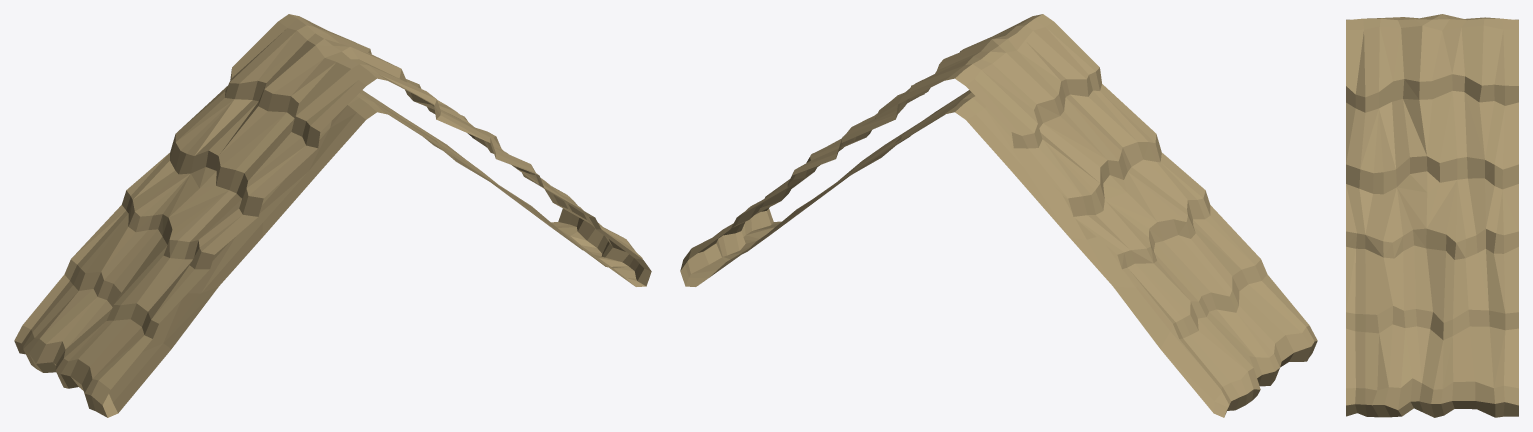
The model's file is rpgpp_ag_roof_02b_9x4x3.fbx.
3 views of the same model, side by side, from view 1: azimuth 30°, elevation 25°; view 2: azimuth 150°, elevation 25°; view 3: azimuth 270°, elevation 25° (orthographic). The views are drawn at different scales.
Visible parts, largest first — view 1: rpgpp_ag_roof_02b_9x4x3; view 2: rpgpp_ag_roof_02b_9x4x3; view 3: rpgpp_ag_roof_02b_9x4x3.
Boxes of the visible parts, left/top/right/bottom form: rpgpp_ag_roof_02b_9x4x3: left=14, top=14, right=651, bottom=417; rpgpp_ag_roof_02b_9x4x3: left=680, top=14, right=1317, bottom=417; rpgpp_ag_roof_02b_9x4x3: left=1346, top=14, right=1518, bottom=417.
Bounding box in the file's own units: 11 × 5.17 × 3.
